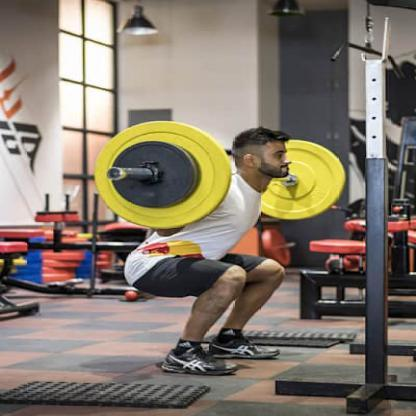Barbell: (104, 166, 132, 184)
